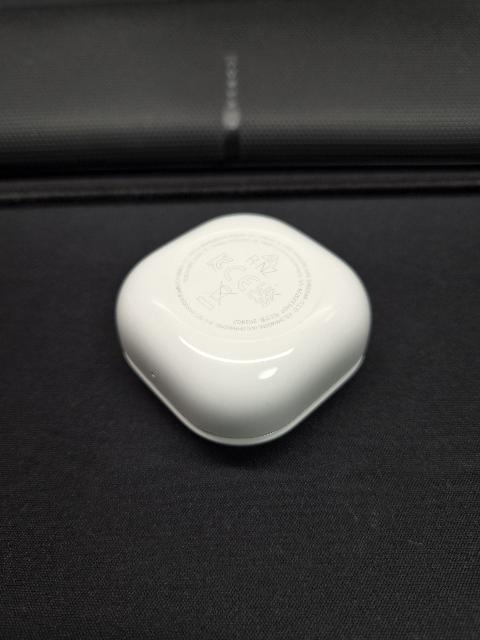earphone_case: (115, 213, 372, 447)
